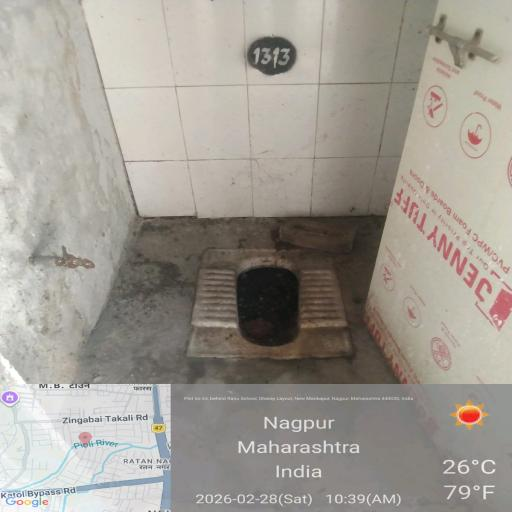clean_floor: (409, 112, 512, 366), (135, 14, 298, 127), (131, 136, 202, 211)
dirty_indian: (189, 251, 352, 361)
partial_dirty_floor: (115, 216, 404, 396), (23, 14, 124, 363), (210, 130, 376, 216), (311, 19, 424, 126)
